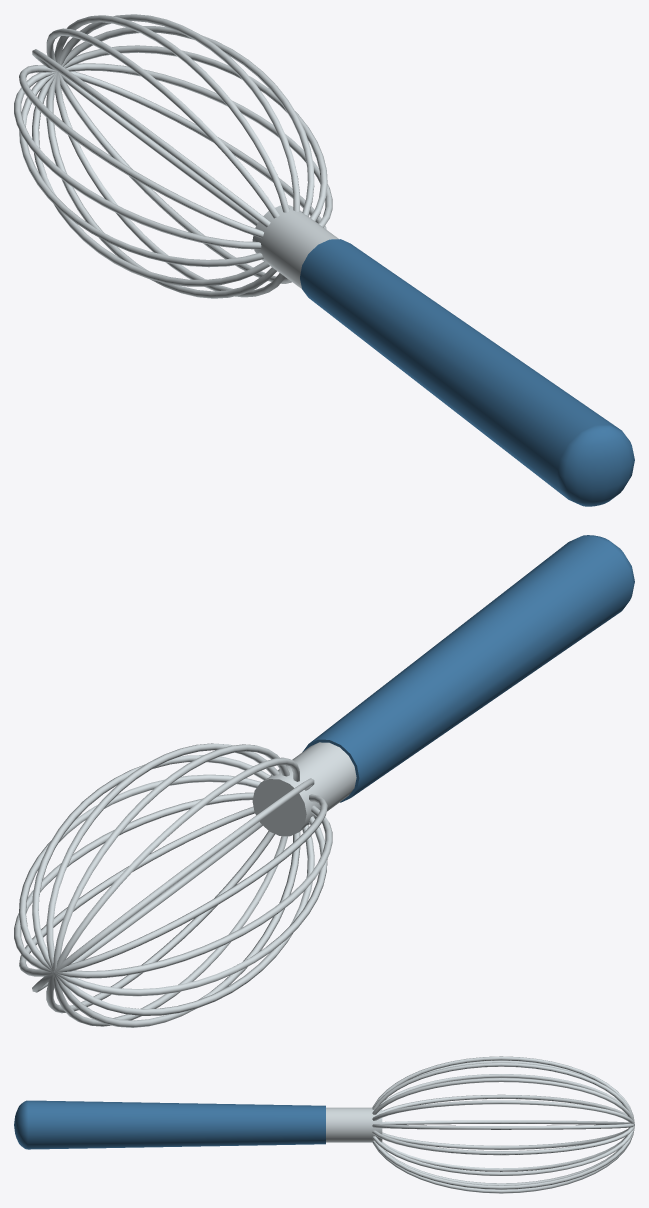
The model's file is utensil_whisk.glb.
3 renders of one model, top to bottom at view 1: azimuth 30°, elevation 25°; view 2: azimuth 150°, elevation 25°; view 3: azimuth 270°, elevation 25°, orthographic. The views are drawn at different scales.
Parts seen in each view (by area): view 1: Whisk grip, Whisk balloon wire 3, Whisk balloon wire 4, Whisk end cap, Whisk balloon wire 2, Whisk balloon wire 1, Whisk balloon wire 5, Whisk balloon wire 8, Whisk balloon wire 6, Whisk balloon wire 7, Whisk metal ferrule; view 2: Whisk grip, Whisk metal ferrule, Whisk balloon wire 3, Whisk balloon wire 4, Whisk balloon wire 2, Whisk balloon wire 1, Whisk balloon wire 5, Whisk balloon wire 8, Whisk balloon wire 6, Whisk balloon wire 7; view 3: Whisk grip, Whisk balloon wire 1, Whisk balloon wire 3, Whisk balloon wire 4, Whisk balloon wire 8, Whisk balloon wire 6, Whisk balloon wire 2, Whisk balloon wire 5, Whisk metal ferrule, Whisk balloon wire 7, Whisk end cap.
Part boxes in pixels (x1,y1,x2,y2): Whisk grip: [300, 239, 620, 498]; Whisk balloon wire 3: [32, 26, 314, 286]; Whisk balloon wire 4: [46, 14, 299, 298]; Whisk end cap: [557, 425, 634, 506]; Whisk balloon wire 2: [19, 45, 327, 267]; Whisk balloon wire 1: [14, 63, 332, 249]; Whisk balloon wire 5: [54, 15, 289, 297]; Whisk balloon wire 8: [19, 65, 326, 238]; Whisk balloon wire 6: [46, 28, 291, 283]; Whisk balloon wire 7: [32, 49, 270, 227]; Whisk metal ferrule: [252, 205, 338, 288]; Whisk grip: [302, 536, 632, 802]; Whisk metal ferrule: [252, 742, 356, 836]; Whisk balloon wire 3: [32, 755, 314, 1015]; Whisk balloon wire 4: [46, 743, 300, 1027]; Whisk balloon wire 2: [19, 774, 327, 996]; Whisk balloon wire 1: [14, 792, 332, 978]; Whisk balloon wire 5: [53, 744, 289, 1026]; Whisk balloon wire 8: [19, 794, 327, 976]; Whisk balloon wire 6: [46, 757, 299, 1013]; Whisk balloon wire 7: [32, 778, 314, 992]; Whisk grip: [28, 1100, 325, 1149]; Whisk balloon wire 1: [372, 1094, 634, 1155]; Whisk balloon wire 3: [372, 1100, 634, 1149]; Whisk balloon wire 4: [372, 1078, 634, 1171]; Whisk balloon wire 8: [372, 1074, 634, 1175]; Whisk balloon wire 6: [372, 1056, 634, 1193]; Whisk balloon wire 2: [372, 1120, 634, 1129]; Whisk balloon wire 5: [372, 1062, 634, 1185]; Whisk metal ferrule: [326, 1107, 382, 1142]; Whisk balloon wire 7: [372, 1060, 634, 1189]; Whisk end cap: [14, 1100, 27, 1149].
Bounding box in the file's own units: 0.0784 × 0.0781 × 0.3542.
